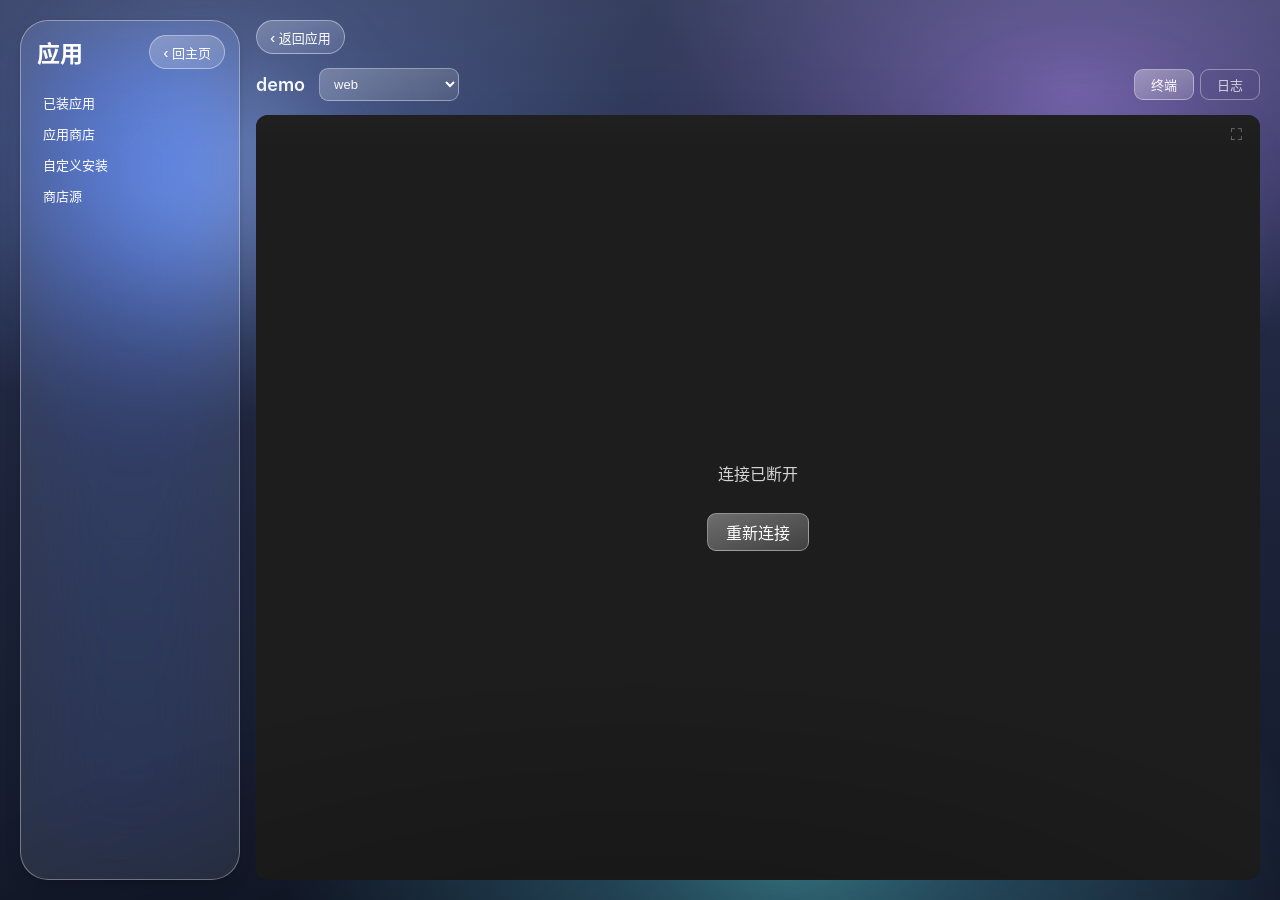
Test: AppConsolePage › Change service selector while on logs tab: force switch back to terminal tab (hidden mount will lock new TerminalPane's fit at 80×24)
Click the tab with test id "console-tab-logs". click: {"x": 1230, "y": 84}
box: [1200,69,1260,100]
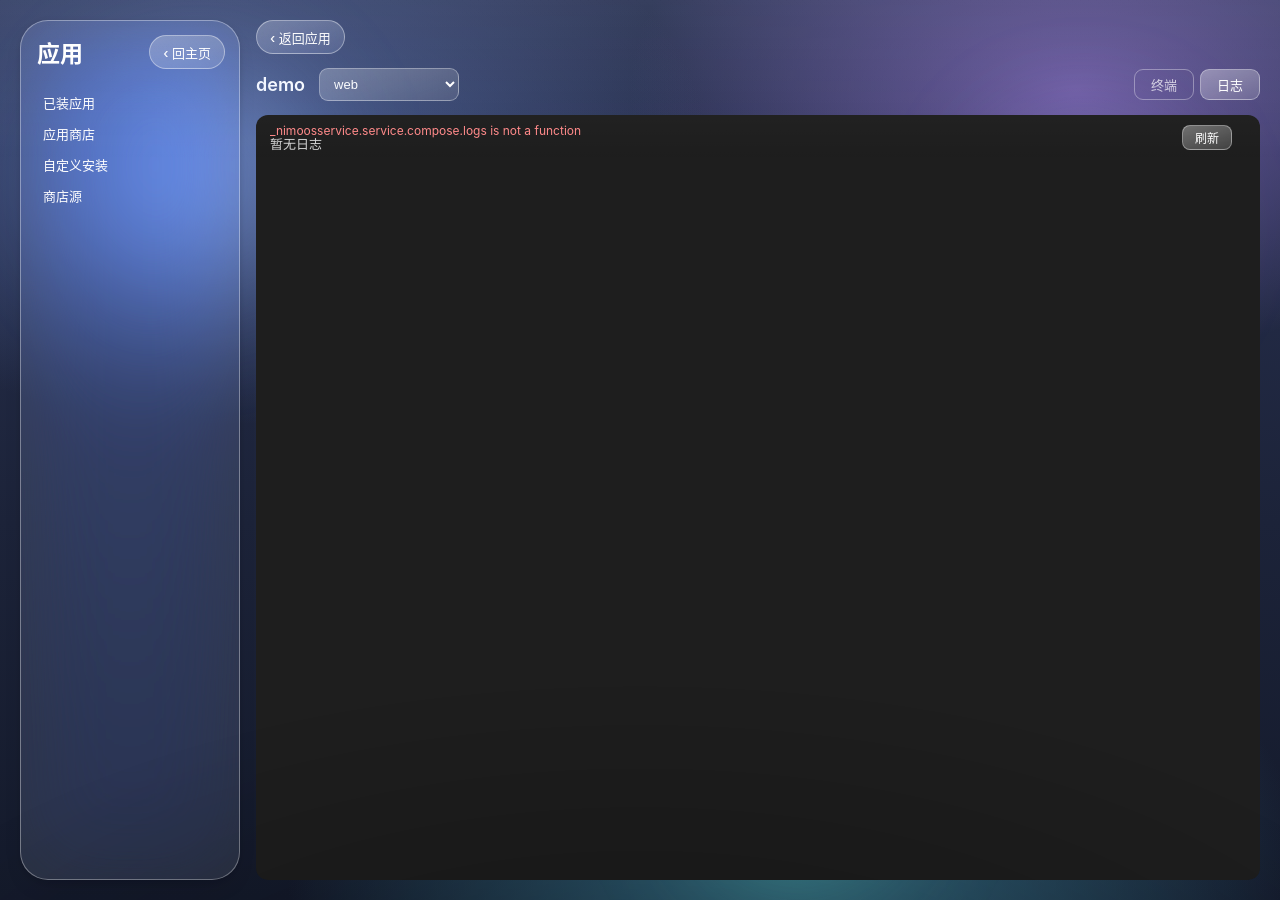
Result: the tab with test id "console-tab-logs" is selected at [1200,69,1260,100]
Select "db" in the dropdown with test id "console-svc-select". click: {"x": 389, "y": 84}
box: [319,68,459,101]
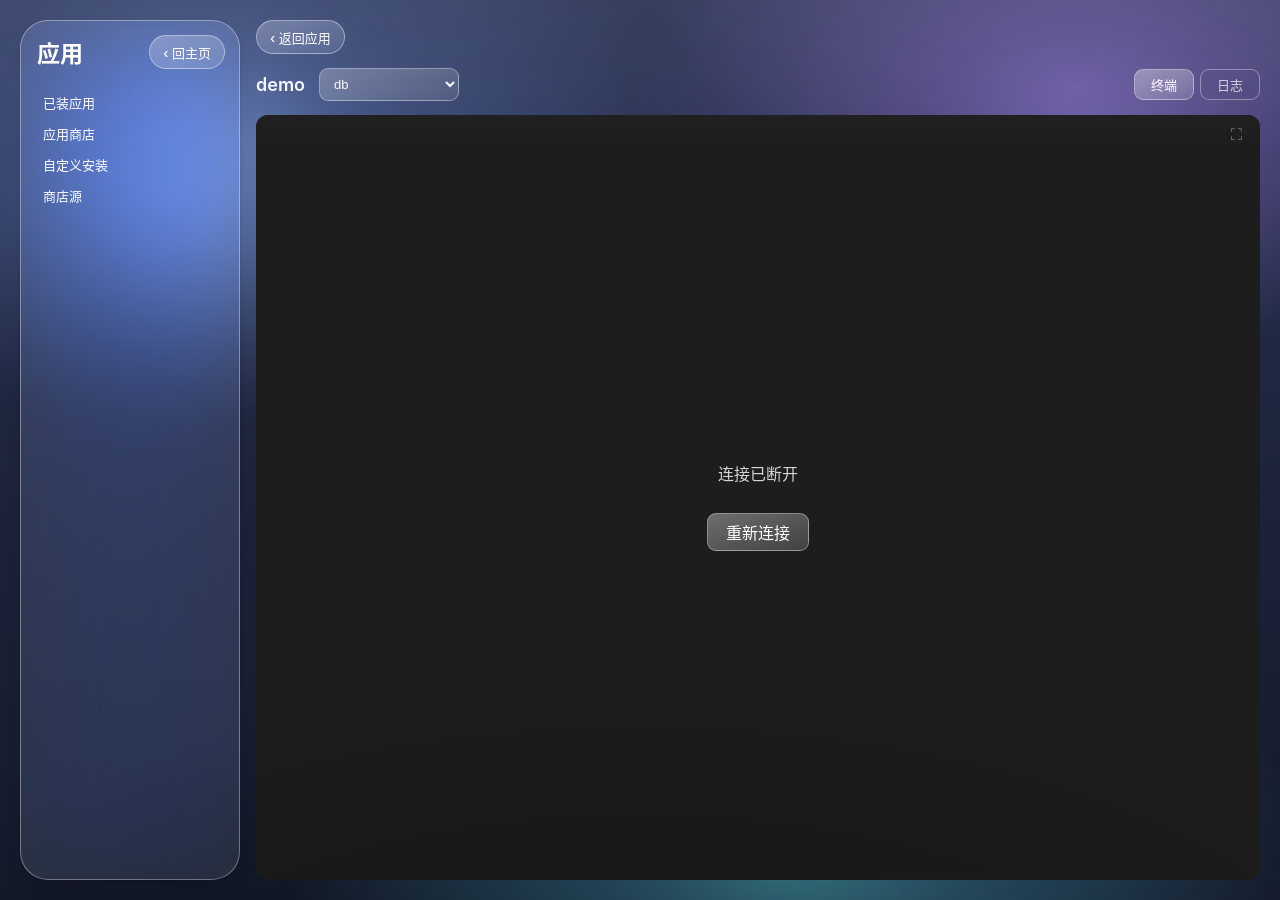
Result: the element showing "⛶ 连接已断开 重新连接" is shown
